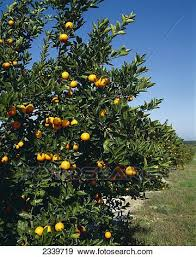orange: (79, 133, 91, 140), (68, 81, 79, 88)
